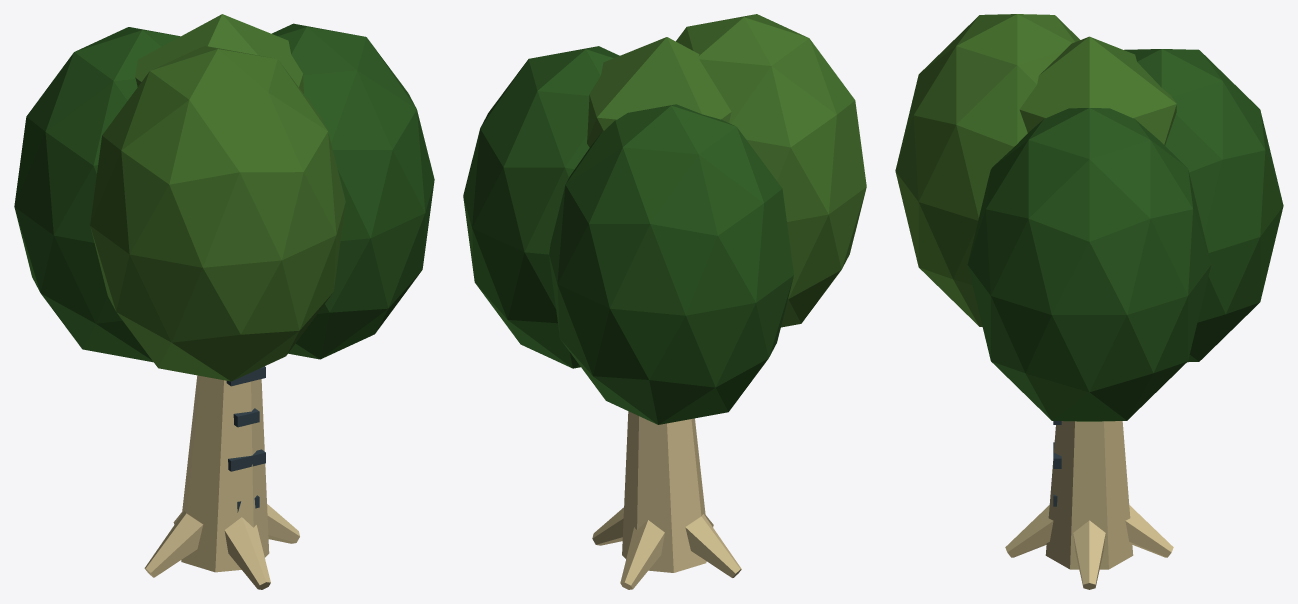
Rendered from Tree2.fbx.
3 renders of one model, left to right at view 1: azimuth 30°, elevation 25°; view 2: azimuth 150°, elevation 25°; view 3: azimuth 270°, elevation 25°, orthographic. The views are drawn at different scales.
Visible parts, largest first — view 1: Tree2_Mesh; view 2: Tree2_Mesh; view 3: Tree2_Mesh.
Part boxes in pixels (box(x1,y1,x2,y2)): Tree2_Mesh: box(14, 14, 434, 589); Tree2_Mesh: box(463, 14, 866, 589); Tree2_Mesh: box(895, 14, 1283, 589).
Bounding box in the file's own units: 1.18 × 1.8 × 1.21.
